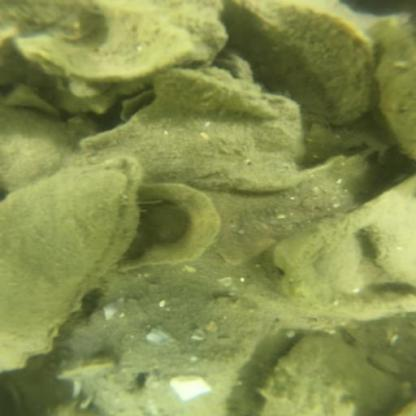3: (1, 156, 143, 372)
Oyster-Closed: (78, 74, 304, 191), (225, 5, 374, 127), (146, 68, 281, 117)
Oyster-Open: (61, 292, 270, 414), (16, 0, 227, 76), (261, 335, 394, 413), (362, 175, 415, 289), (374, 18, 415, 158), (3, 107, 66, 188)
